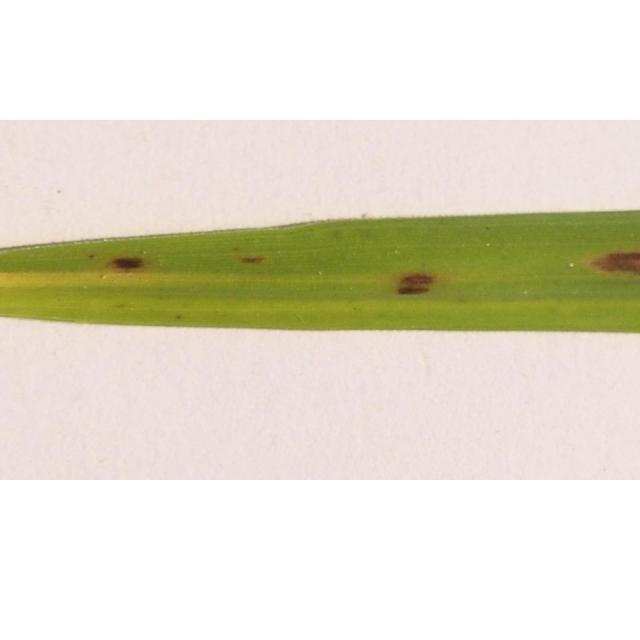Brown spot: (387, 261, 448, 309), (577, 237, 640, 282), (82, 247, 148, 284), (224, 245, 276, 276)
